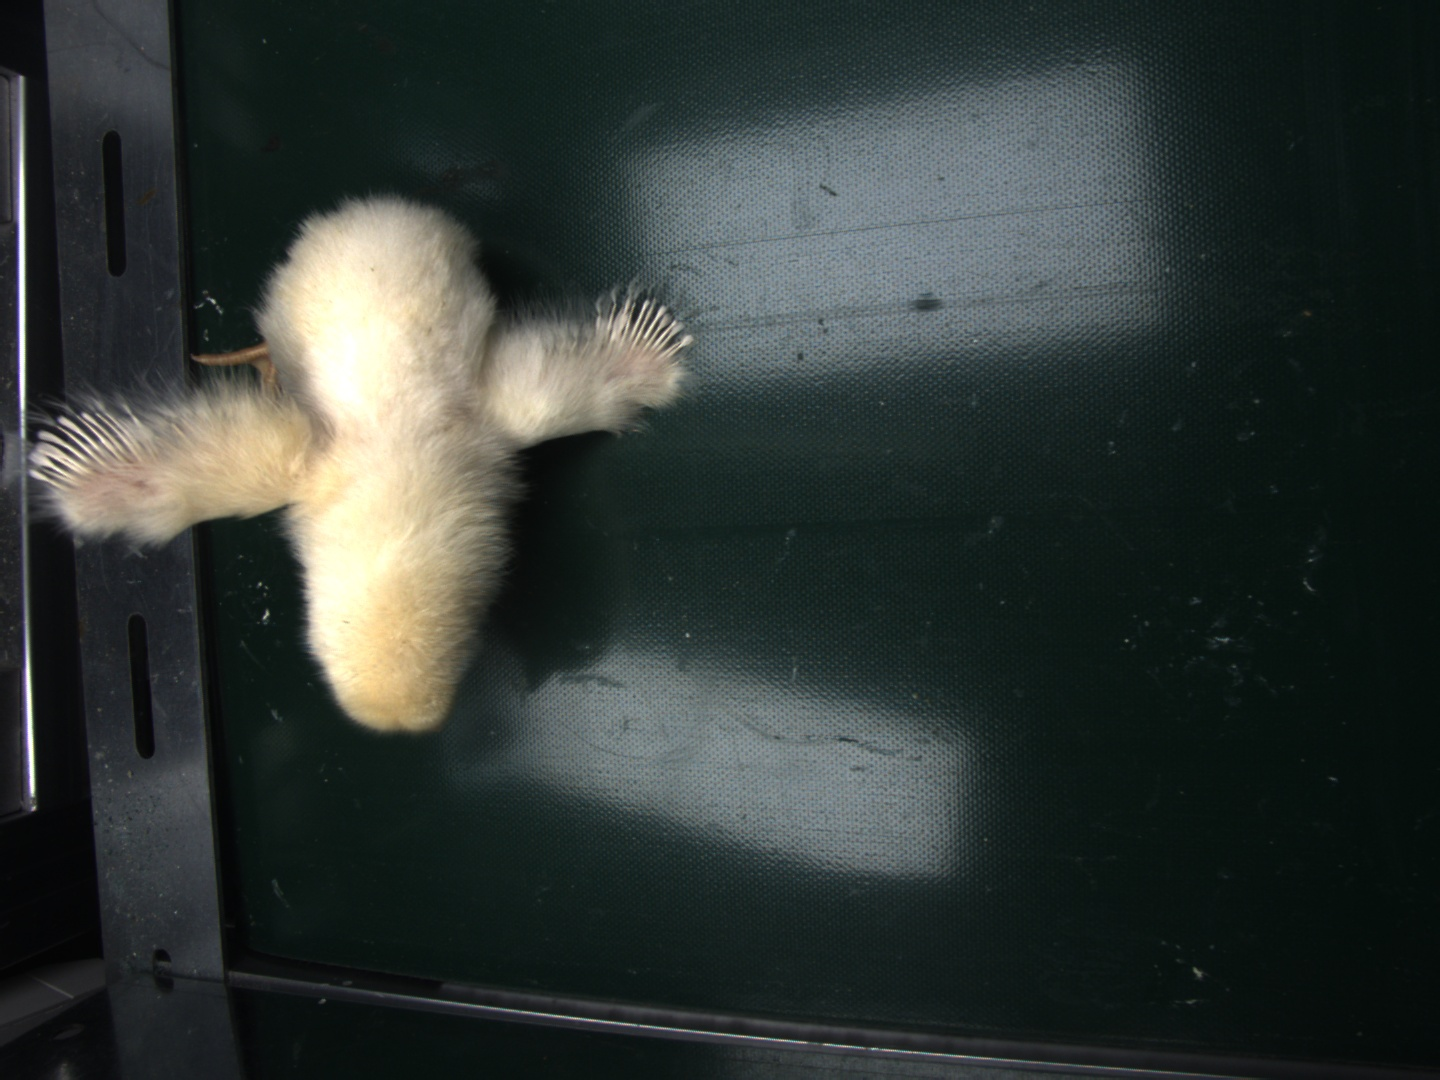male: (33, 399, 146, 493), (595, 290, 695, 356)
